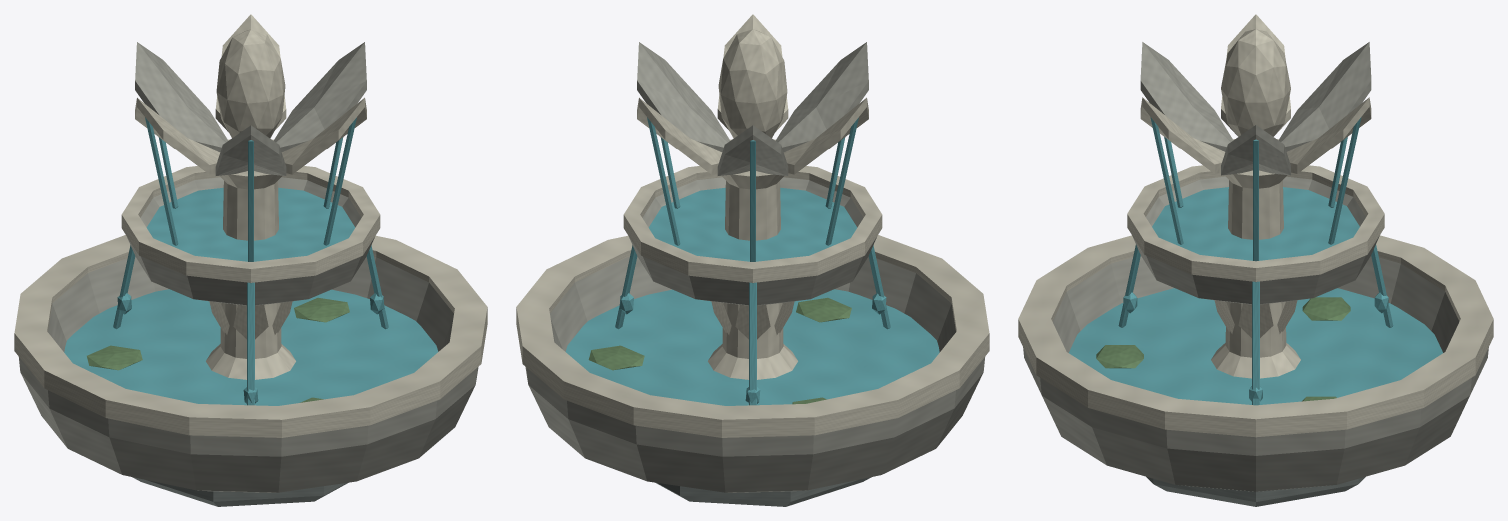
The model's file is fountain_lily.glb.
The picture shows the model from 3 angles, left to right: view 1: azimuth 30°, elevation 25°; view 2: azimuth 150°, elevation 25°; view 3: azimuth 270°, elevation 25°; orthographic projection.
Visible parts, largest first — view 1: fountain_lily; view 2: fountain_lily; view 3: fountain_lily.
Part boxes in pixels (box(x1,y1,x2,y2)): fountain_lily: box(14, 14, 487, 506); fountain_lily: box(516, 14, 989, 506); fountain_lily: box(1018, 14, 1493, 506).
Size of the model in its own units: 2.03 by 2 by 2.03.
1 material, 1 textured.
